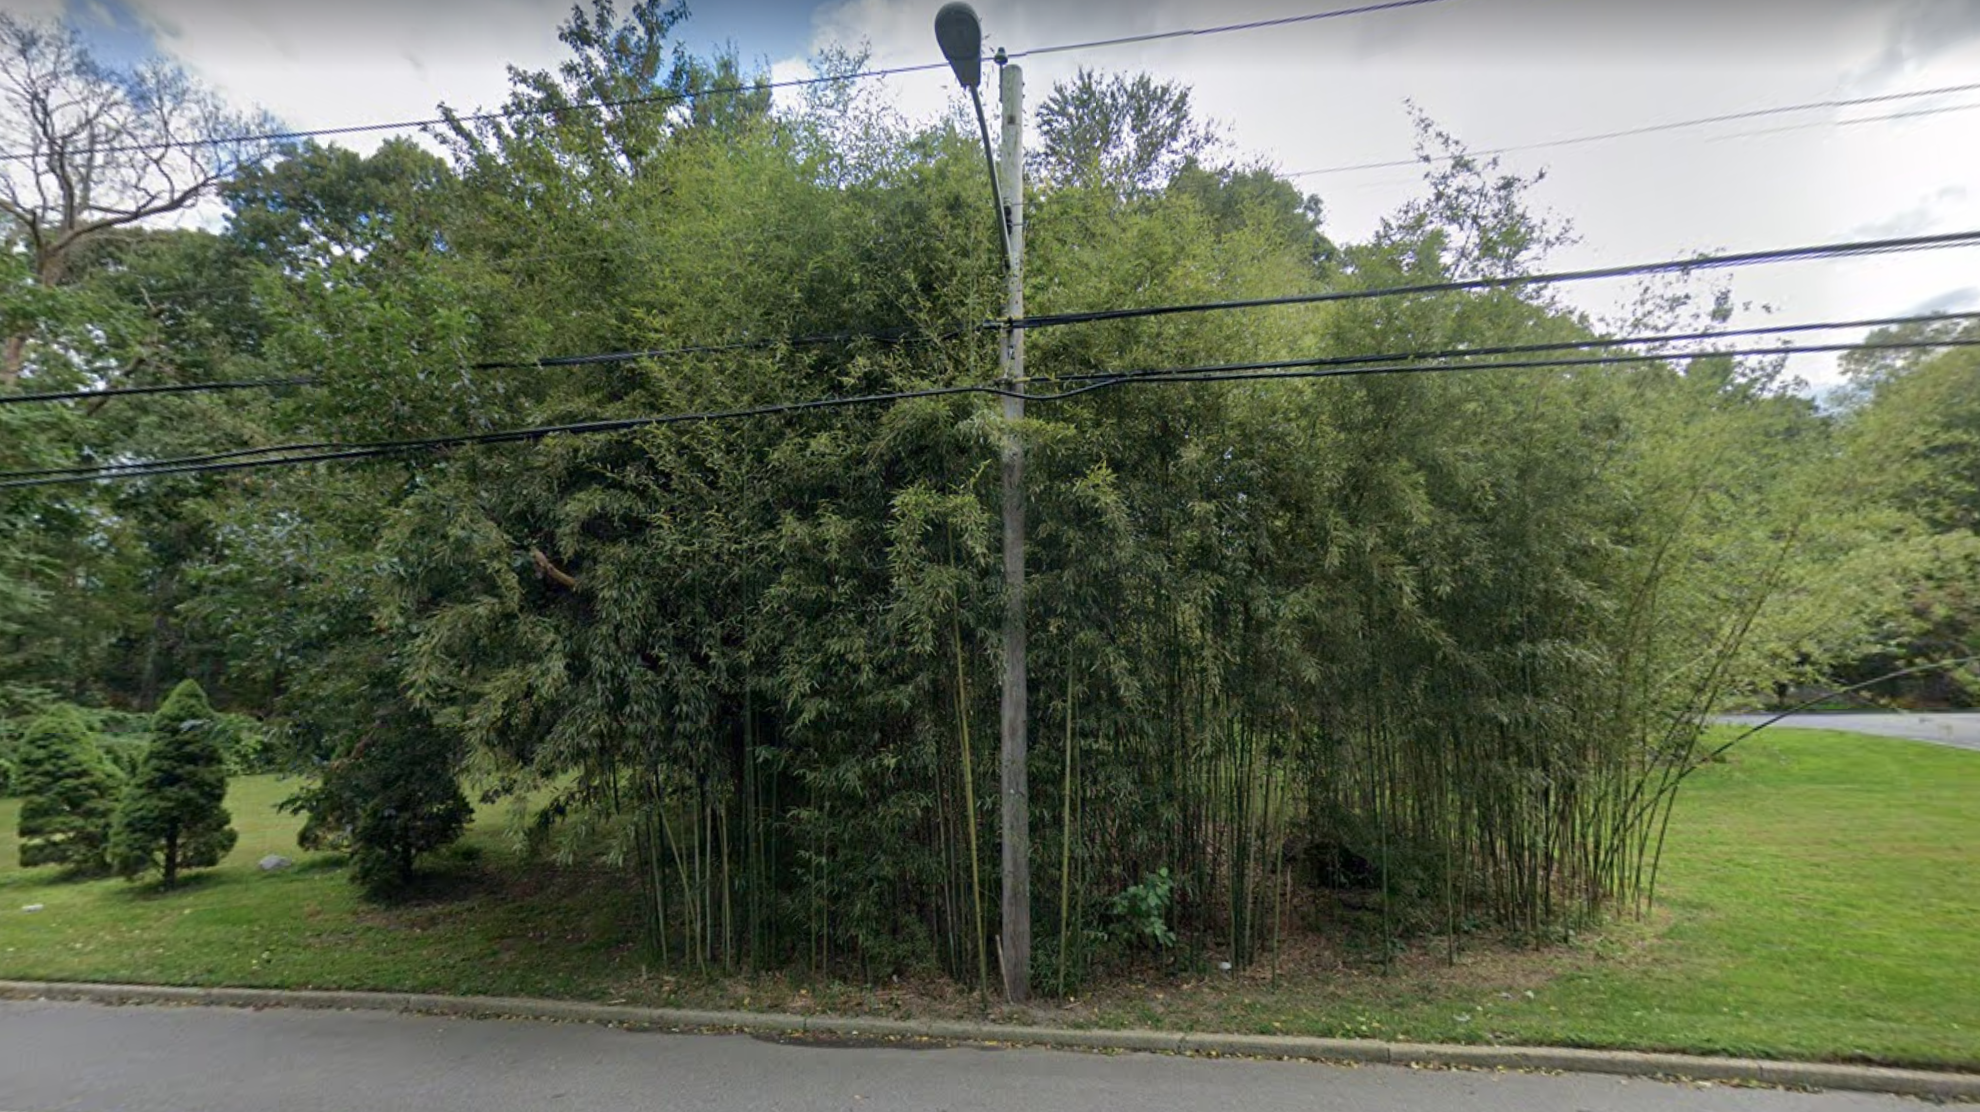bamboo: (581, 131, 989, 969), (1259, 169, 1693, 918), (1050, 164, 1354, 943), (203, 169, 581, 782)
